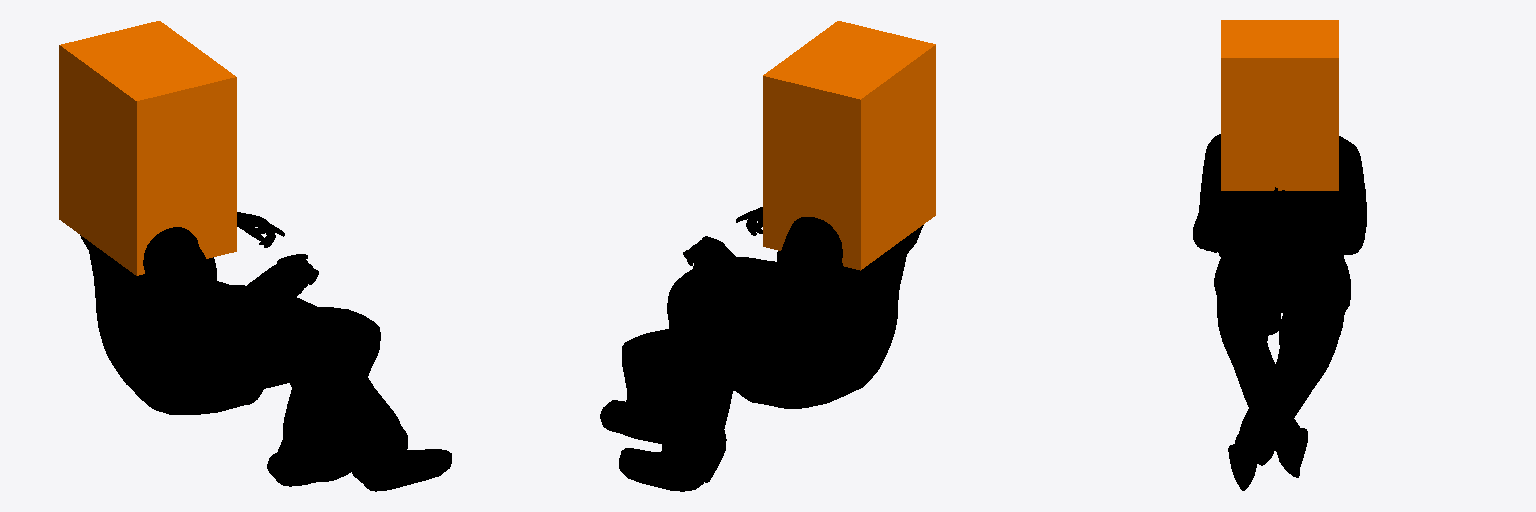
URDF robot description (sitting_man):
<?xml version="1.0" ?>
<robot name="sitting_man">
  <material name="orange">
    <color rgba="1 0.5 0 .2"/>
  </material>
    <link name="base_link">
        <visual>
	         <origin xyz="0.34 -0.27 -0.77" rpy="0 0 1.57" />
            <geometry>
                <mesh filename="sitting_man.dae" scale="1 1 1"/>
            </geometry>
        </visual>
        <collision>
            <geometry>
                <mesh filename="sitting_man.dae" scale="1 1 1"/>
            </geometry>
        </collision>


        <collision>
            <origin xyz="-0.1 0 0" rpy="0 0 0"/>
            <geometry>
                <box size="0.3 0.4 0.5"/>
            </geometry>
        </collision>
        <visual>
            <origin xyz="-0.1 0 0" rpy="0 0 0"/>
            <geometry>
                <box size="0.3 0.4 0.5"/>
            </geometry>
            <material name="orange"/>
        </visual>
    </link>
</robot>

--- What the picture shows (computed from the rendered views, not written in the file) ---
3 views of the same robot in one strip: view 1: azimuth 30°, elevation 25°; view 2: azimuth 150°, elevation 25°; view 3: azimuth 270°, elevation 25° (orthographic).
Model sitting_man with 1 links and 0 joints (none), rooted at base_link, posed every joint at zero.
Visible links, largest first — view 1: base_link; view 2: base_link; view 3: base_link.
Link boxes in pixels (bbox=[...]): base_link: bbox=[59, 21, 451, 491]; base_link: bbox=[600, 21, 935, 491]; base_link: bbox=[1193, 20, 1366, 490].
Size in the robot's own frame: 0.9843 by 0.593 by 1.35 metres.
1 mesh visuals loaded from 1 distinct referenced files (1 Collada DAE).
